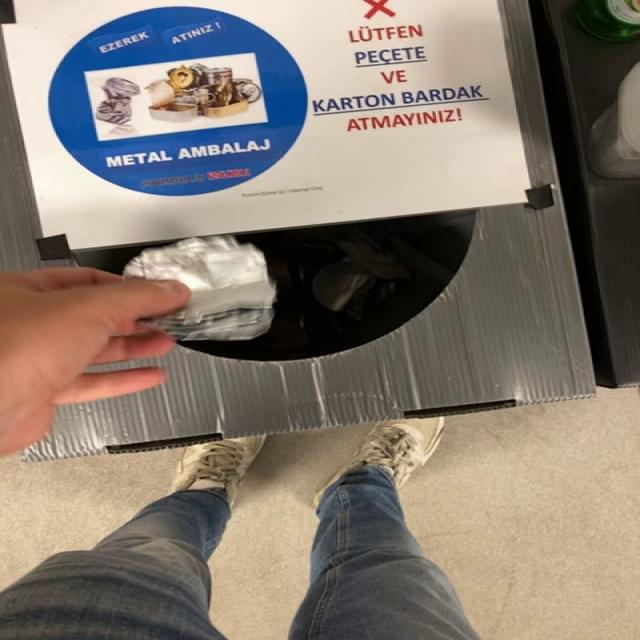bin: (3, 0, 595, 460)
metal: (124, 235, 276, 341)
